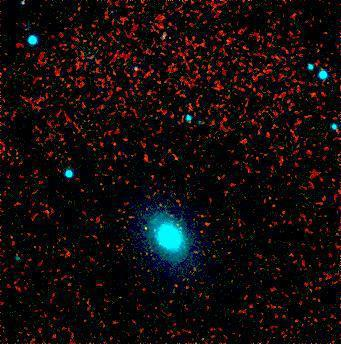star: (130, 214, 160, 244)
